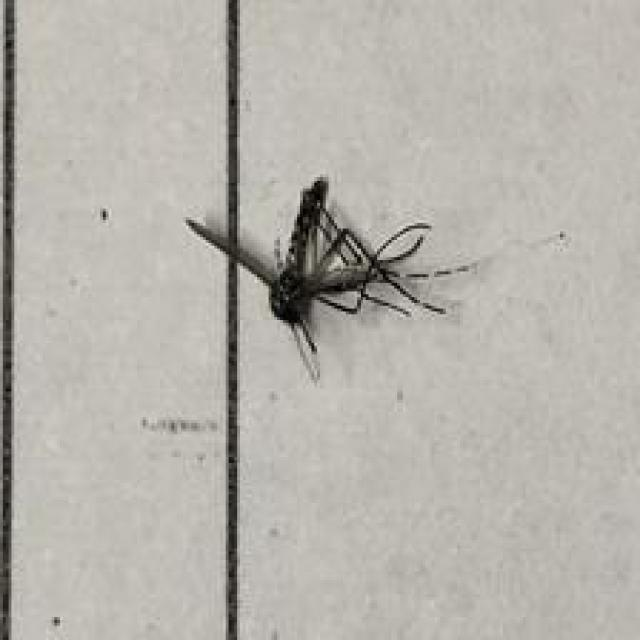Aedes albopictus: (183, 174, 474, 383)
